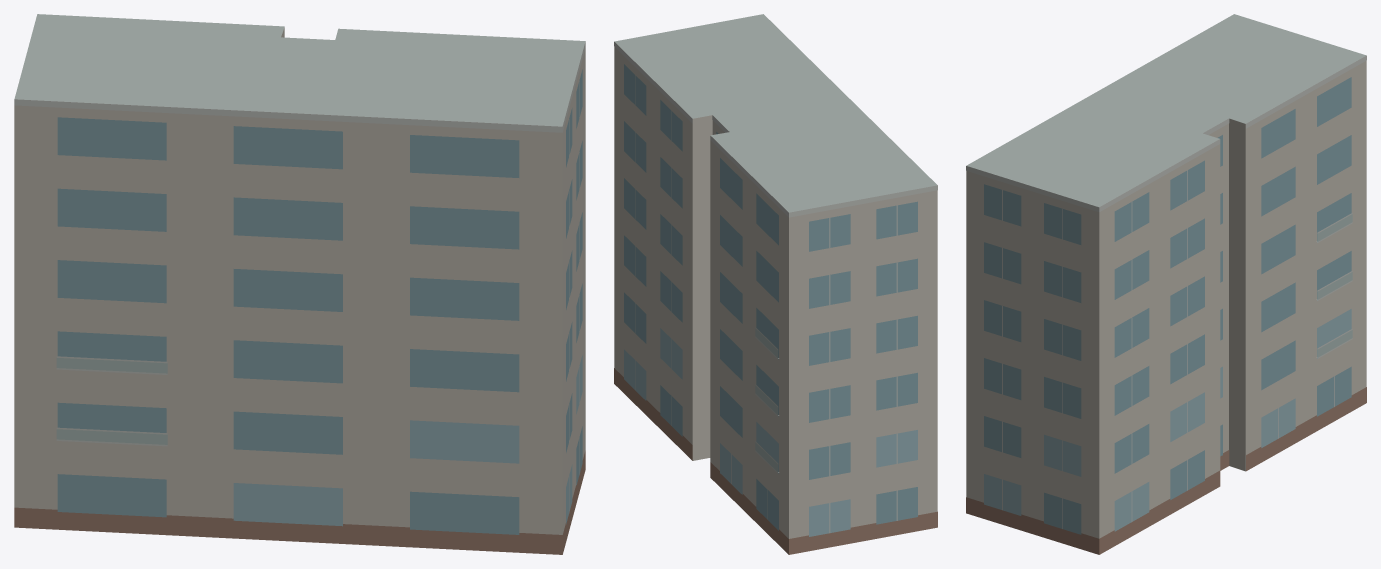
Rendered from survey-upis-32636122.glb.
3 views of the same model, side by side, from view 1: azimuth 30°, elevation 25°; view 2: azimuth 150°, elevation 25°; view 3: azimuth 270°, elevation 25° (orthographic). The views are drawn at different scales.
Parts seen in each view (by area): view 1: survey-upis-32636122.tmp; view 2: survey-upis-32636122.tmp; view 3: survey-upis-32636122.tmp.
Boxes of the visible parts, <box> form: survey-upis-32636122.tmp: <box>14,14,585,554</box>; survey-upis-32636122.tmp: <box>614,14,937,554</box>; survey-upis-32636122.tmp: <box>966,14,1366,554</box>.
Size of the model in its own units: 20.29 by 17 by 17.77.
